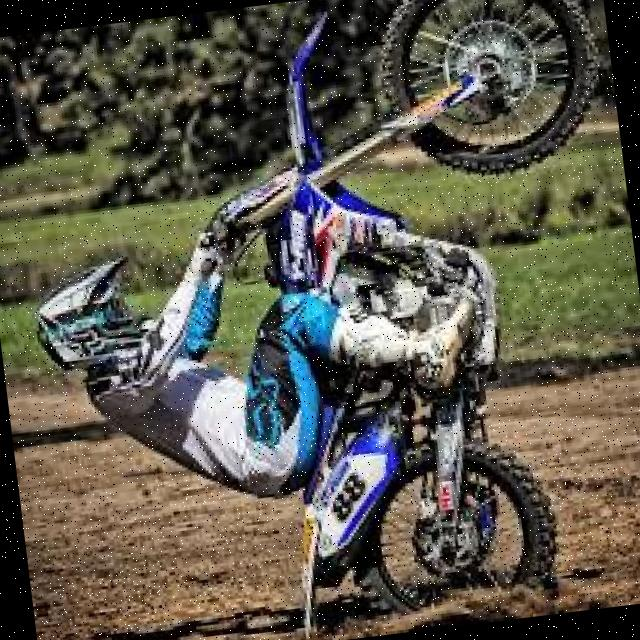Wheeling: (20, 0, 613, 633)
